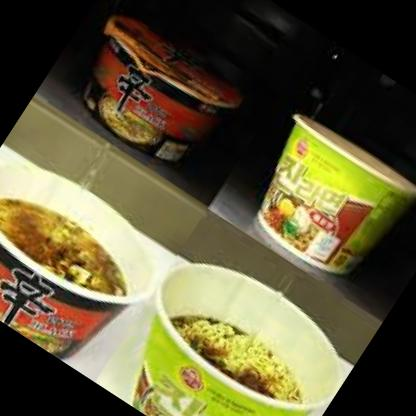Ramen: (103, 239, 361, 416), (0, 131, 176, 373), (230, 104, 416, 296), (62, 2, 254, 184)
